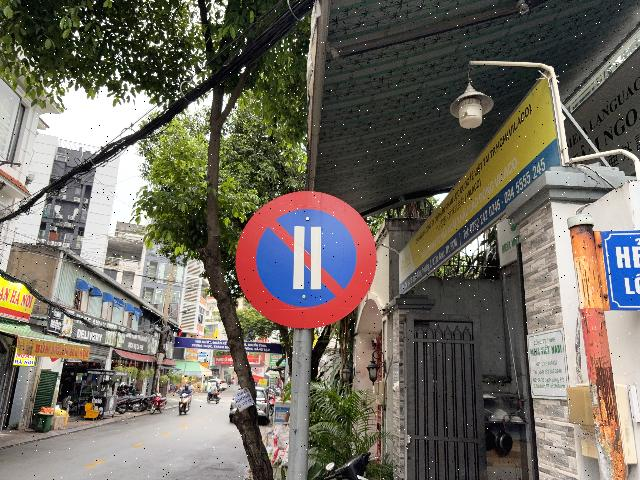cam-do-xe-ngay-chan: (234, 189, 378, 329)
